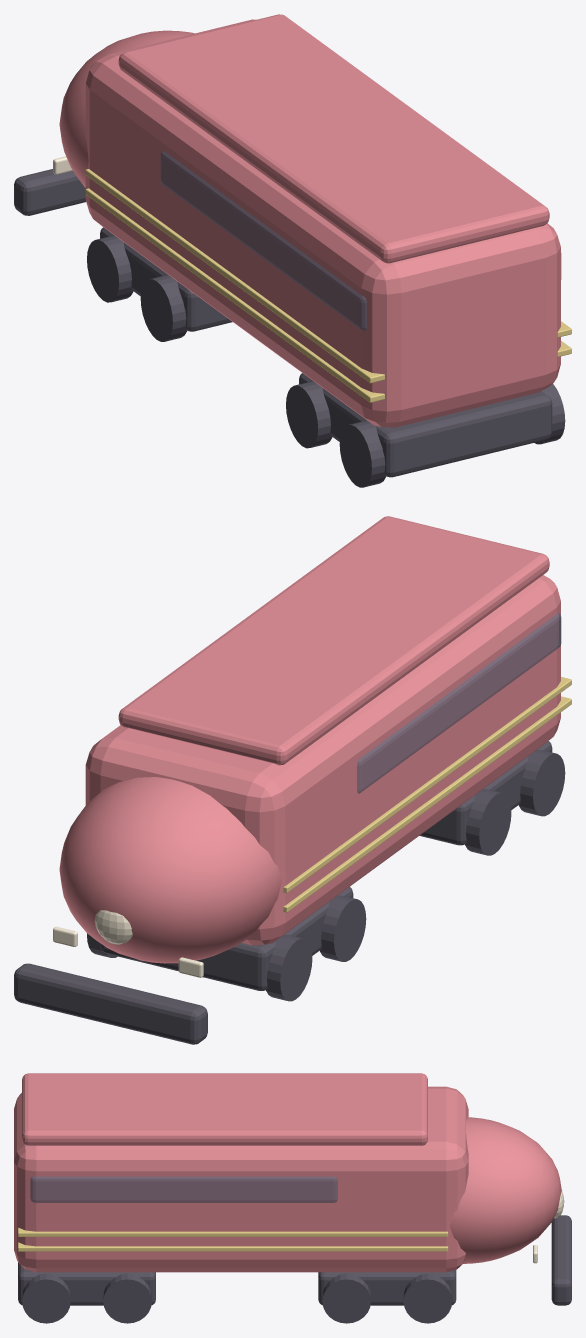
The model's file is TrainEngine.fbx.
The picture shows the model from 3 angles, top to bottom: view 1: azimuth 30°, elevation 25°; view 2: azimuth 150°, elevation 25°; view 3: azimuth 270°, elevation 25°; orthographic projection. The views are drawn at different scales.
Visible parts, largest first — view 1: TrainEngine_Body, TrainEngine_Dark, TrainEngine_Glass, TrainEngine_Gold, TrainEngine_Nose; view 2: TrainEngine_Body, TrainEngine_Nose, TrainEngine_Dark, TrainEngine_Glass, TrainEngine_Gold, TrainEngine_NeonHead; view 3: TrainEngine_Body, TrainEngine_Dark, TrainEngine_Nose, TrainEngine_Glass, TrainEngine_Gold.
Boxes of the visible parts, <box> form: TrainEngine_Body: <box>85,14,560,427</box>; TrainEngine_Dark: <box>14,169,565,487</box>; TrainEngine_Glass: <box>160,151,561,331</box>; TrainEngine_Gold: <box>85,169,571,402</box>; TrainEngine_Nose: <box>59,30,194,187</box>; TrainEngine_Body: <box>85,516,560,945</box>; TrainEngine_Nose: <box>59,777,281,963</box>; TrainEngine_Dark: <box>14,741,565,1044</box>; TrainEngine_Glass: <box>357,612,561,793</box>; TrainEngine_Gold: <box>283,677,571,912</box>; TrainEngine_NeonHead: <box>53,910,203,977</box>; TrainEngine_Body: <box>14,1073,468,1272</box>; TrainEngine_Dark: <box>18,1215,571,1323</box>; TrainEngine_Nose: <box>449,1117,561,1263</box>; TrainEngine_Glass: <box>30,1176,337,1202</box>; TrainEngine_Gold: <box>18,1227,448,1251</box>.
Size of the model in its own units: 4.34 by 5.05 by 13.75.
